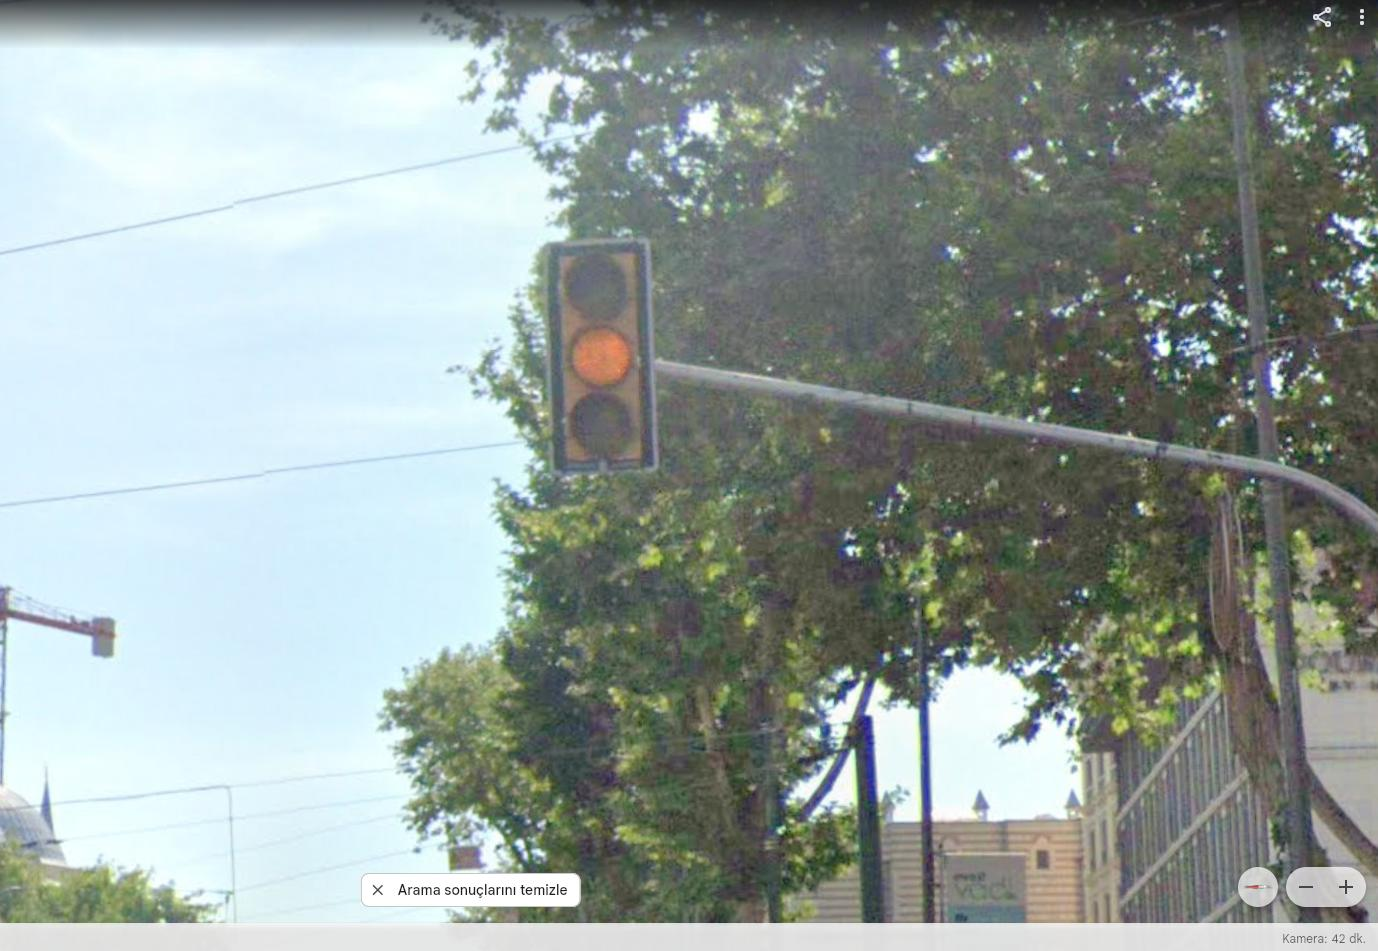yellowlight: (542, 235, 669, 475)
